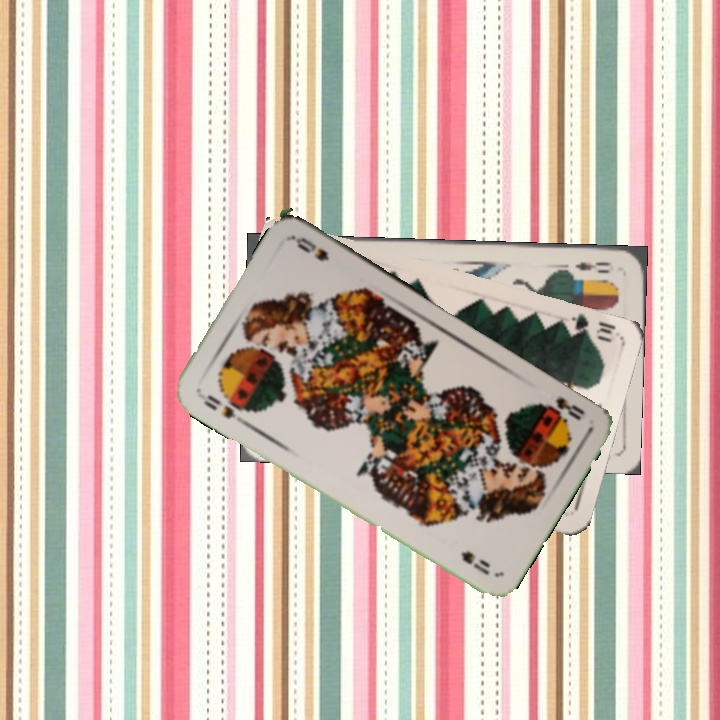EO: (571, 257, 614, 276)
G10: (560, 310, 618, 345)
SO: (542, 393, 588, 423), (199, 390, 238, 421)
